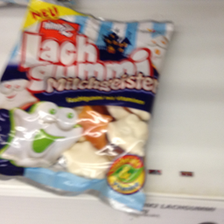candy: (4, 2, 168, 214)
